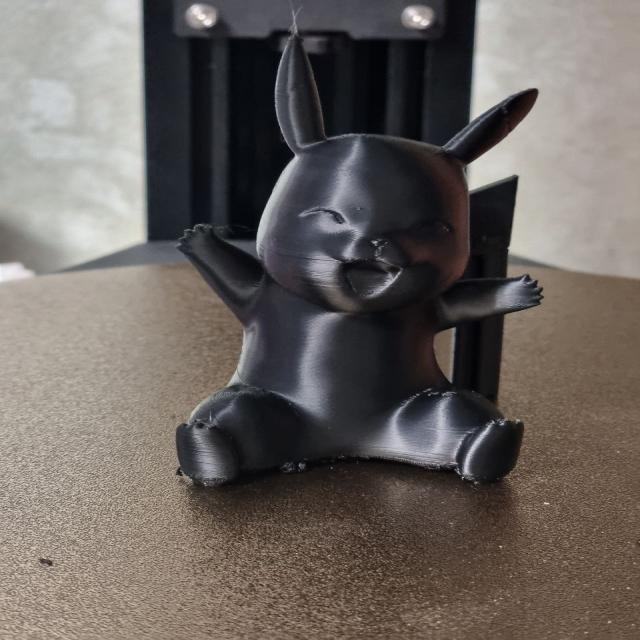Without deffect: (147, 29, 599, 507)
